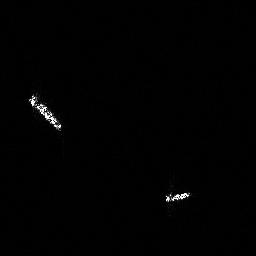ship: (26, 91, 65, 134), (162, 189, 194, 205)
